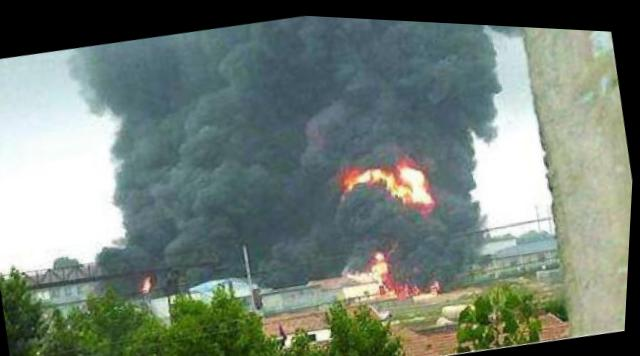fire: (397, 151, 437, 201), (358, 158, 390, 179), (372, 243, 395, 271), (387, 166, 404, 193), (347, 165, 363, 186)
